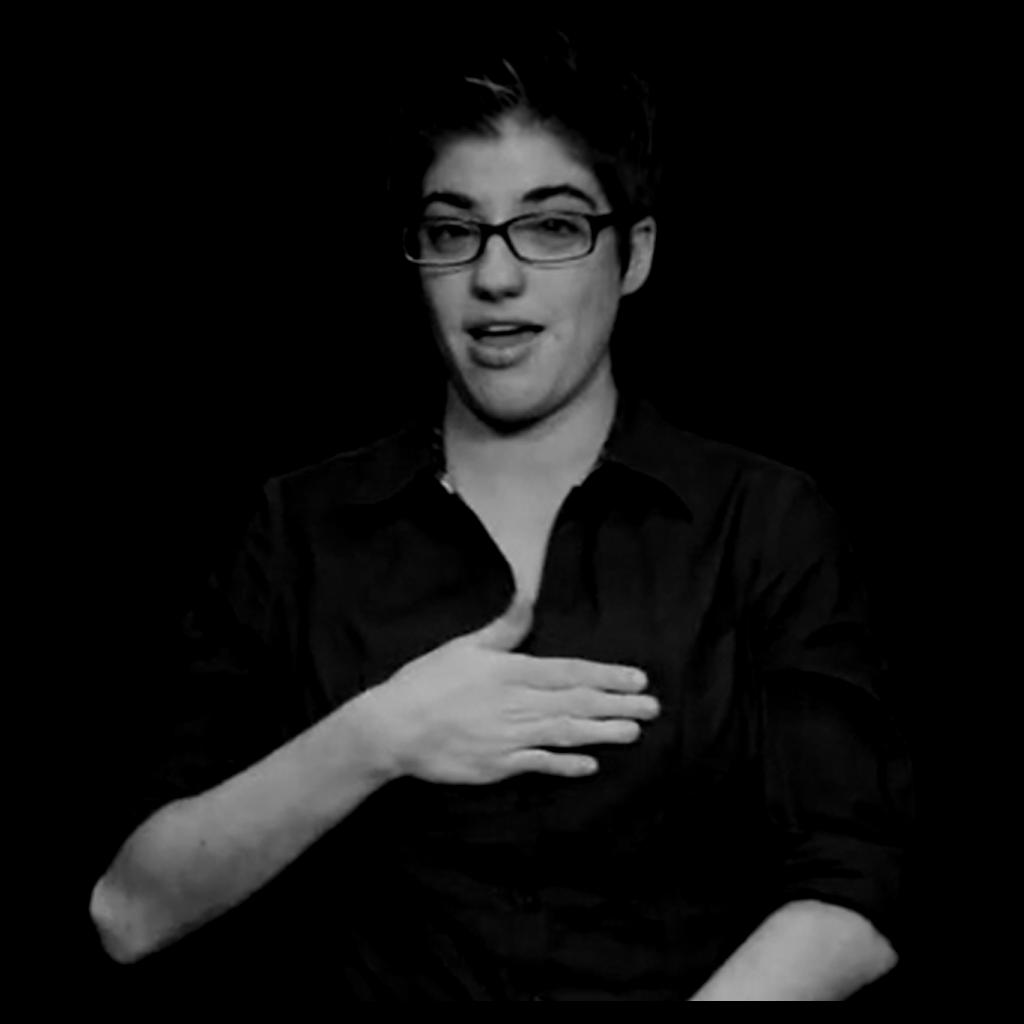my: (392, 589, 660, 785)
